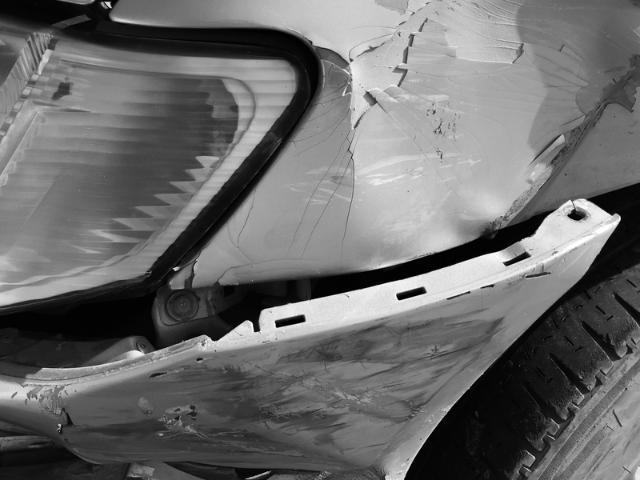Bumper: (0, 198, 624, 478)
Fender: (281, 1, 640, 234)
Light: (4, 26, 236, 289)
